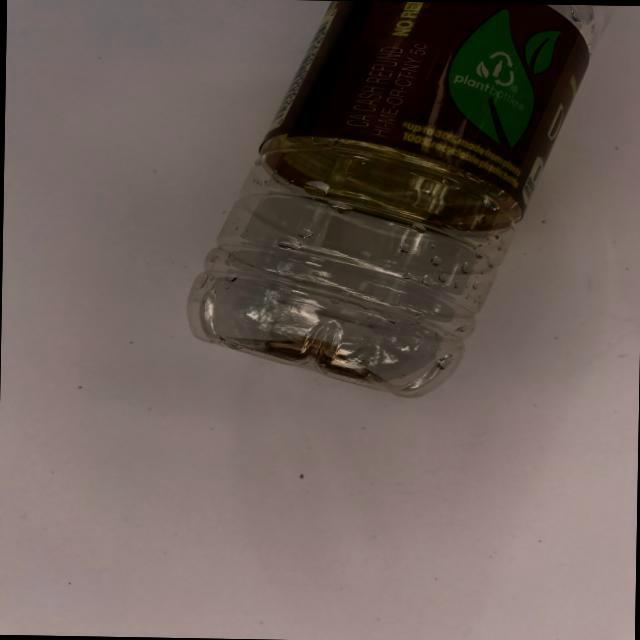plastic: (176, 0, 631, 415)
